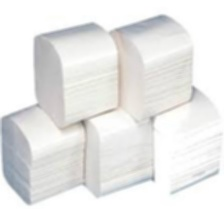tissue: (103, 9, 199, 127), (28, 16, 125, 132), (0, 98, 92, 209), (144, 79, 224, 199), (74, 99, 160, 201)
